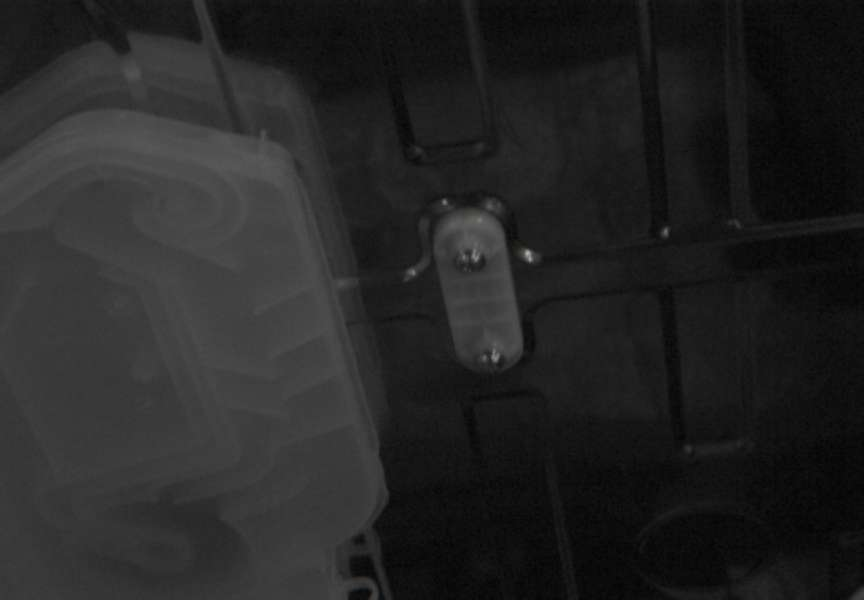screw: (453, 248, 486, 273), (476, 347, 506, 373)
